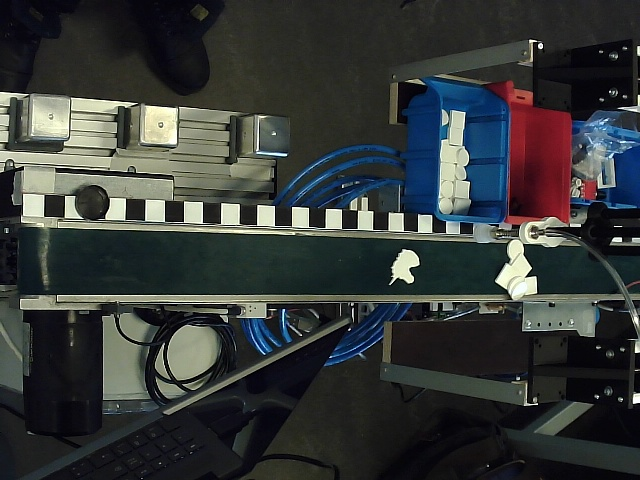unicorn: (389, 249, 421, 287)
